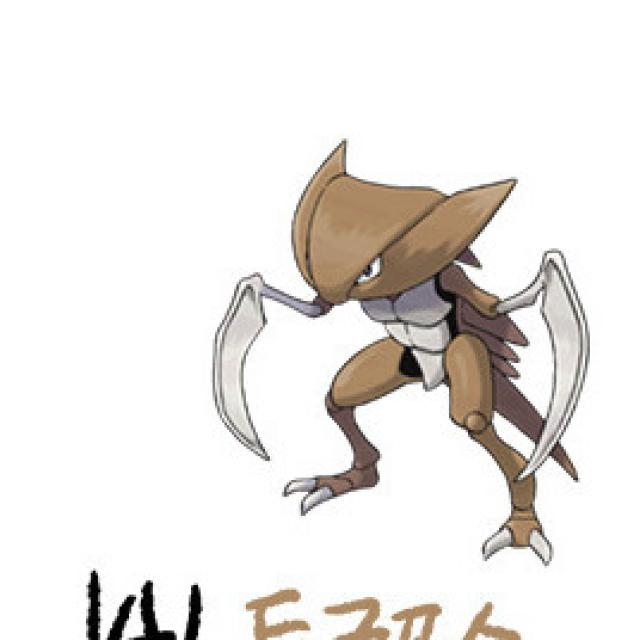Kabutops: (205, 127, 601, 576)
